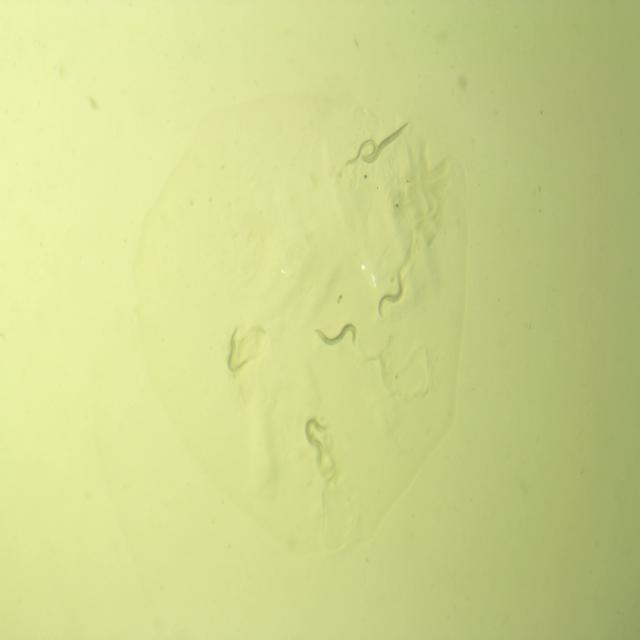worm: (358, 116, 413, 165), (310, 317, 361, 358), (372, 268, 408, 324), (220, 322, 253, 383), (302, 410, 331, 466), (342, 134, 380, 174)
